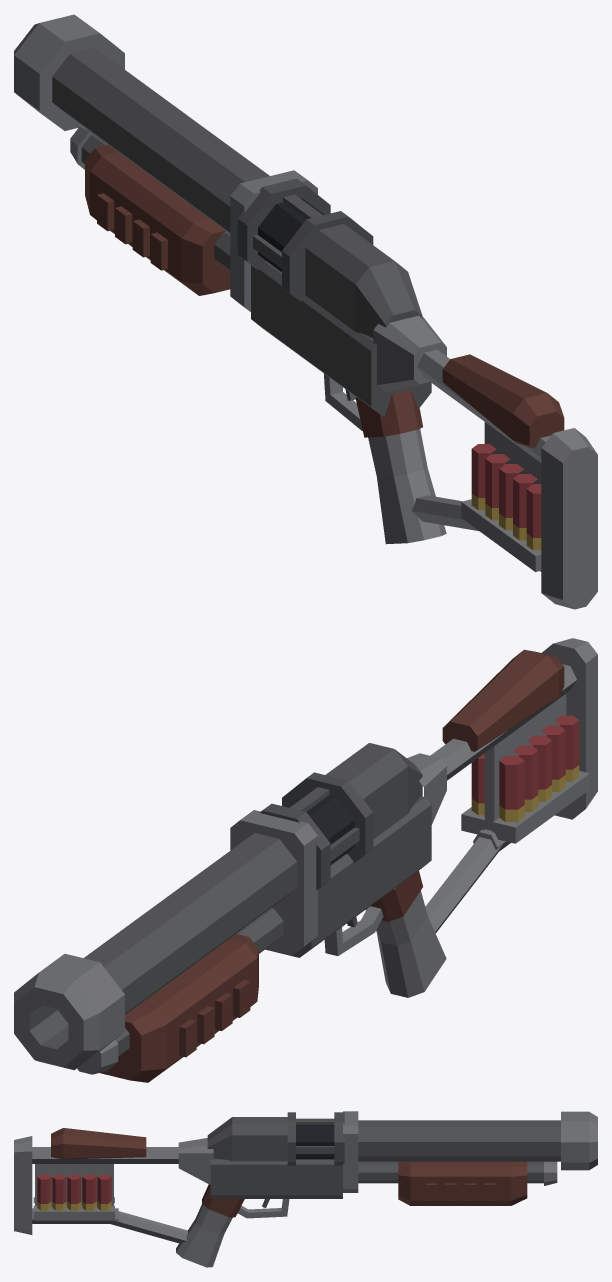
The model's file is wpn_shotgun_a.glb.
The picture shows the model from 3 angles, top to bottom: view 1: azimuth 30°, elevation 25°; view 2: azimuth 150°, elevation 25°; view 3: azimuth 270°, elevation 25°; orthographic projection. The views are drawn at different scales.
Visible parts, largest first — view 1: wpn_shotgun_a_LOD0; view 2: wpn_shotgun_a_LOD0; view 3: wpn_shotgun_a_LOD0.
Part boxes in pixels (<box>): wpn_shotgun_a_LOD0: <box>14,14,597,609</box>; wpn_shotgun_a_LOD0: <box>14,638,597,1082</box>; wpn_shotgun_a_LOD0: <box>14,1111,597,1267</box>.
Size of the model in its own units: 0.092 by 0.2662 by 0.95.
